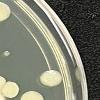white: (38, 67, 64, 89), (0, 80, 20, 99), (0, 0, 14, 26), (18, 88, 46, 100), (1, 47, 12, 60), (0, 73, 7, 91), (0, 89, 7, 100)
